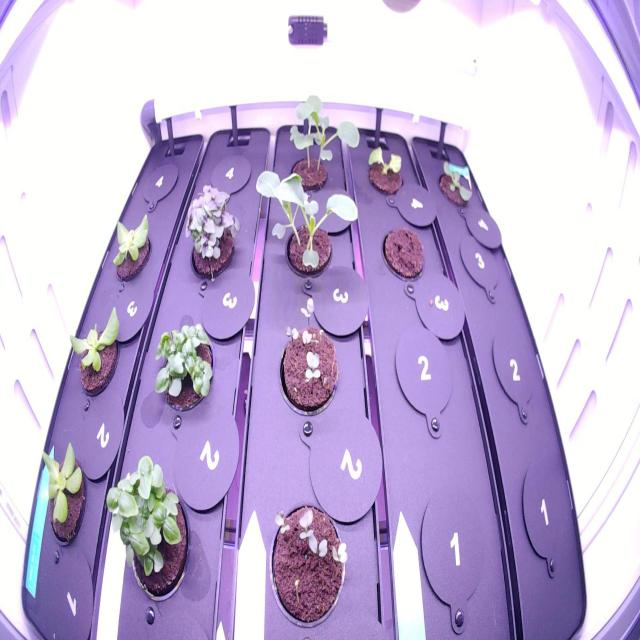empty_pod: (418, 482, 490, 615), (514, 456, 583, 572), (392, 322, 457, 421), (488, 322, 543, 424), (452, 221, 508, 306), (138, 146, 182, 212), (205, 144, 254, 202)
germination: (259, 480, 359, 634), (273, 287, 344, 429)
pod: (378, 218, 428, 290)
young: (36, 432, 94, 552), (65, 295, 126, 406), (107, 204, 157, 293), (432, 154, 478, 216), (365, 141, 407, 203)
